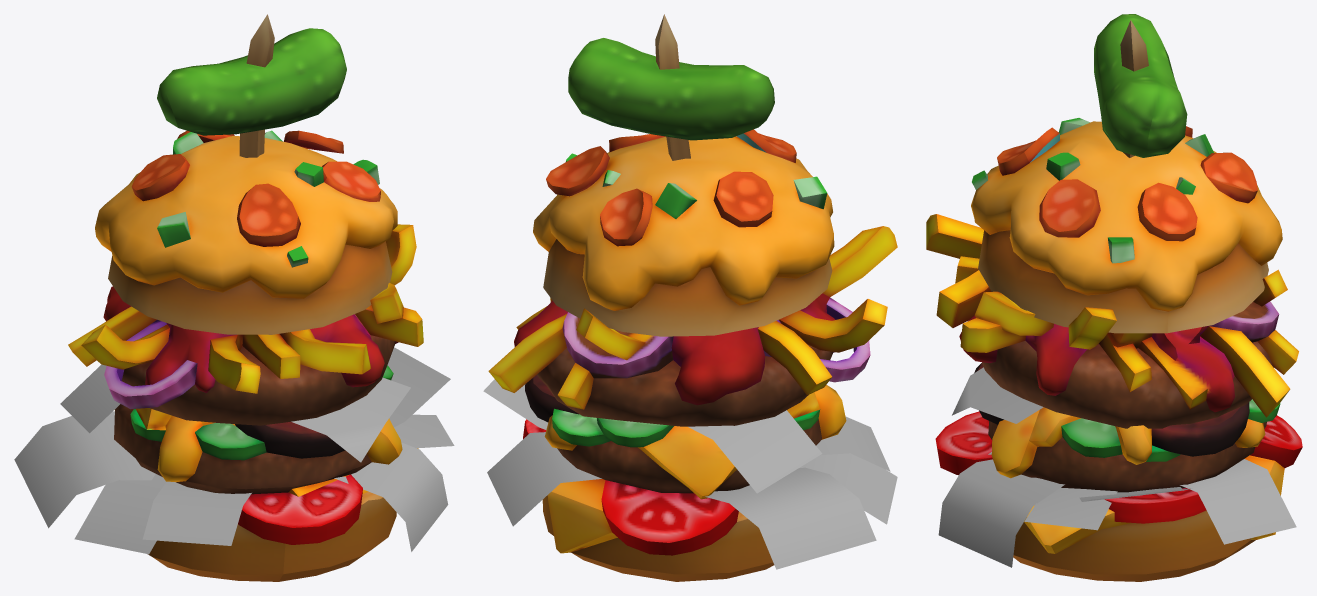
Rendered from obj_consumable_pizzaburger.fbx.
3 renders of one model, left to right at view 1: azimuth 30°, elevation 25°; view 2: azimuth 150°, elevation 25°; view 3: azimuth 270°, elevation 25°, orthographic.
Parts seen in each view (by area): view 1: obj_consumalbe_pizzabruger; view 2: obj_consumalbe_pizzabruger; view 3: obj_consumalbe_pizzabruger.
Part boxes in pixels (x1,y1,x2,y2): obj_consumalbe_pizzabruger: (14, 14, 454, 581); obj_consumalbe_pizzabruger: (483, 14, 897, 581); obj_consumalbe_pizzabruger: (926, 14, 1302, 581).
Bounding box in the file's own units: 1.48 × 1.92 × 1.25.
